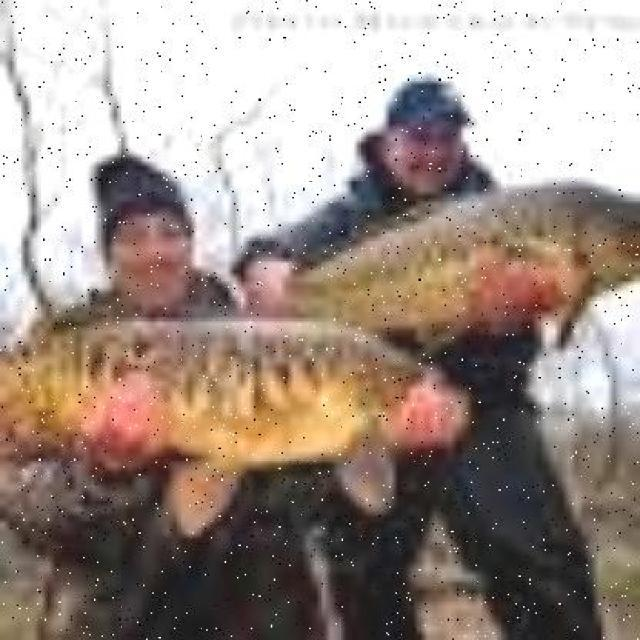ikan-mas: (6, 304, 452, 498), (244, 163, 638, 329)
